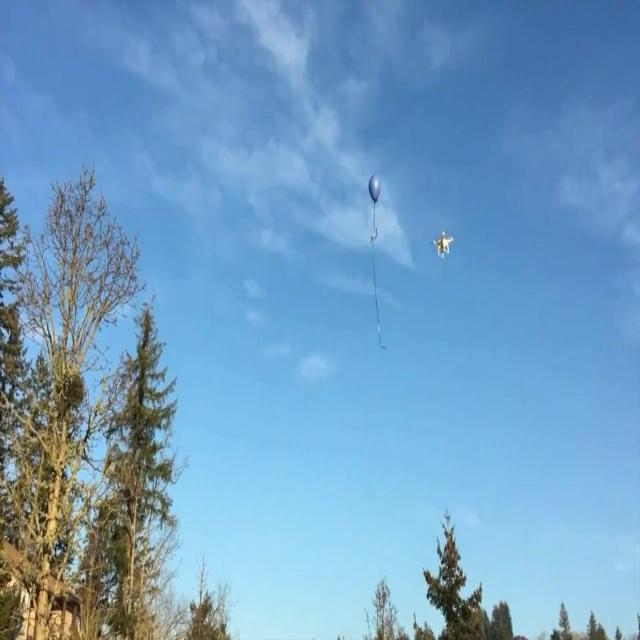drone: (430, 230, 454, 260)
